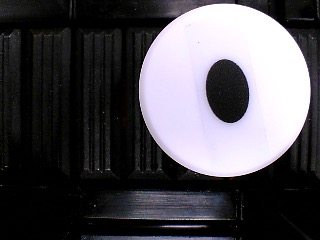BOHOEL: (137, 2, 312, 178)
